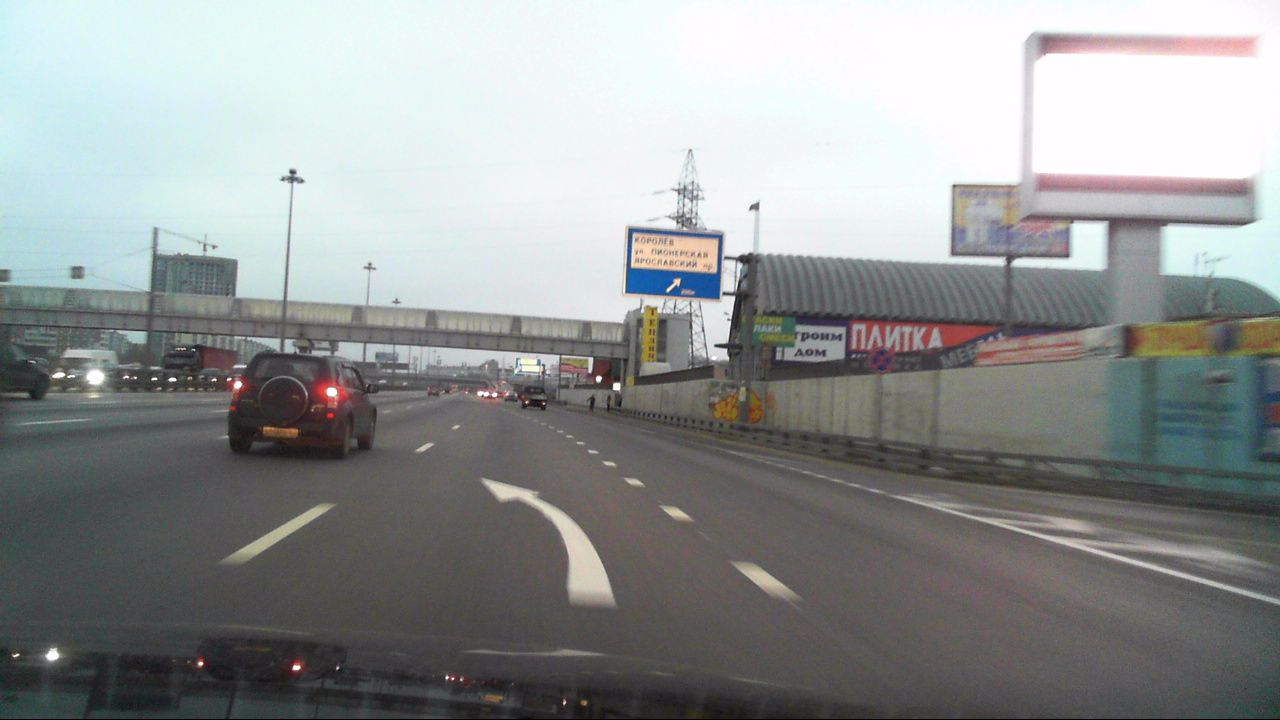No Parking: (869, 346, 895, 374)
